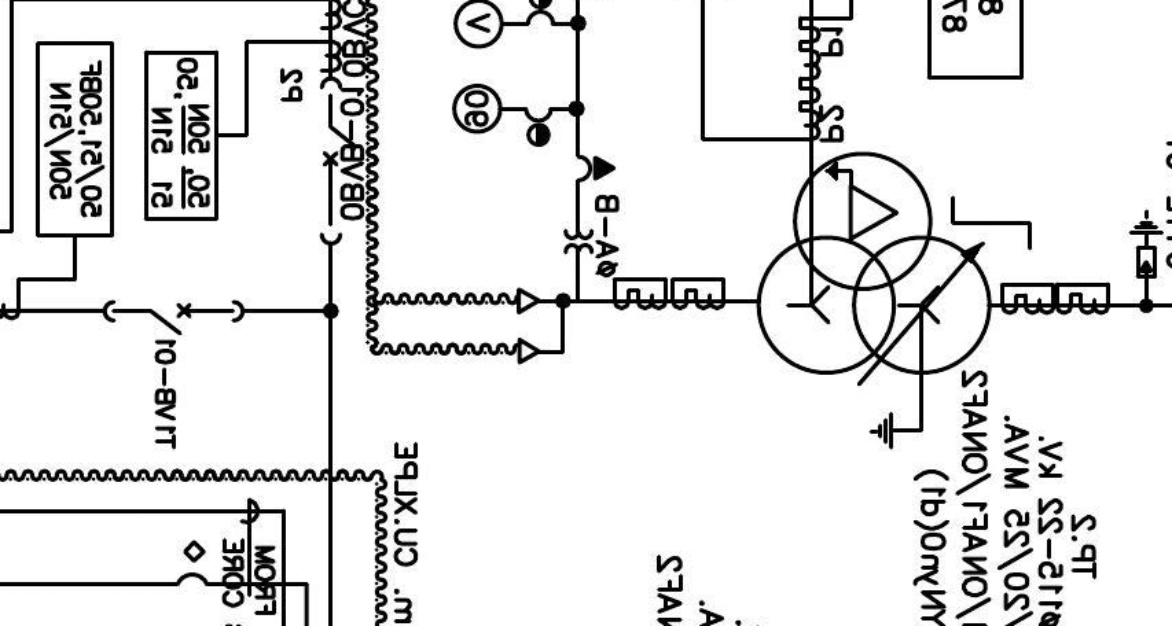11522_tx_ynyn0d1: (755, 150, 993, 376)
115_la: (1128, 209, 1165, 280)
22_breaker: (319, 76, 356, 246), (102, 299, 245, 337)
terminator_double: (516, 286, 566, 366)
